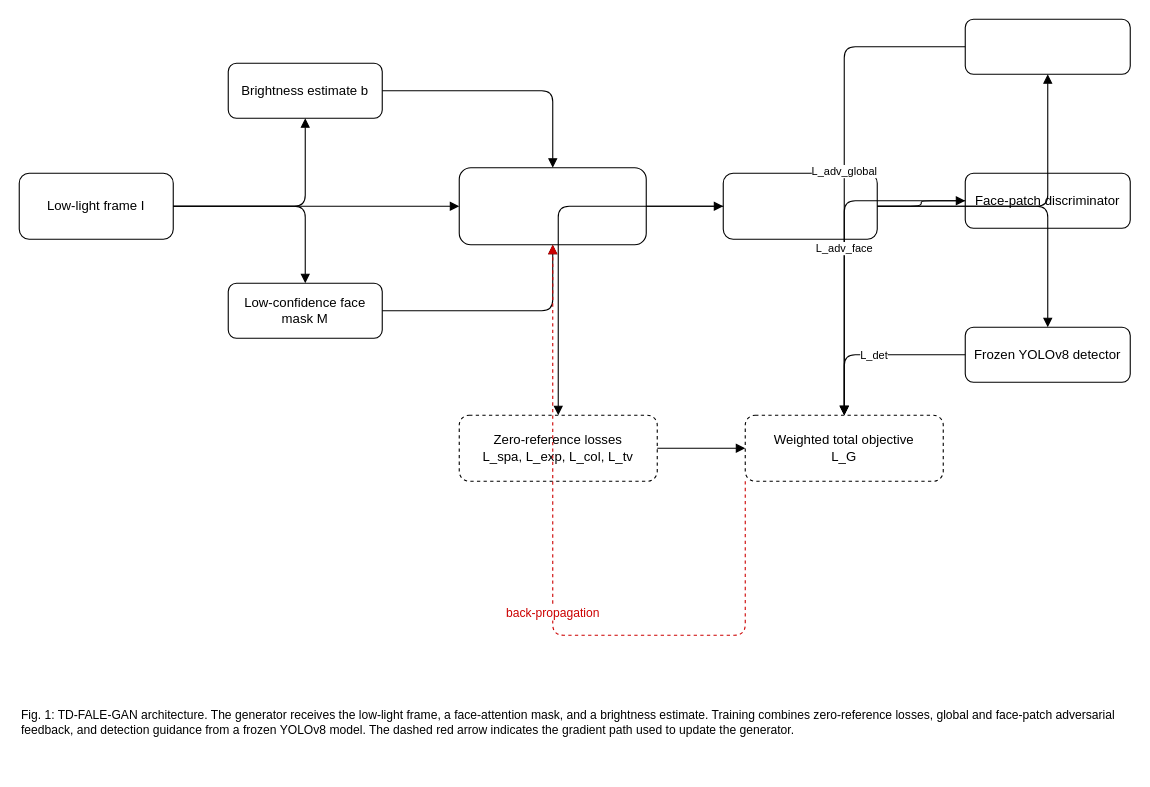
Some shapes in this 1150 by 787 pixel diagram are drawn without their labels. Each missing label, with the box of its shape:
Enhanced frame I': (722, 172, 877, 239)
Face-attentive curve generator G(I, M, b): (458, 167, 646, 245)
Global discriminator: (964, 18, 1130, 74)
